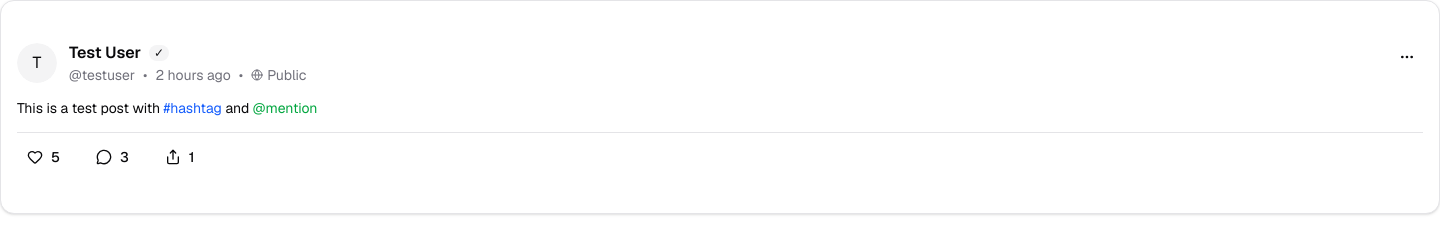
Test: PostCard › shows edit and delete options for own posts
Click the 1st button at (1407, 57), box [1391,41,1423,73]
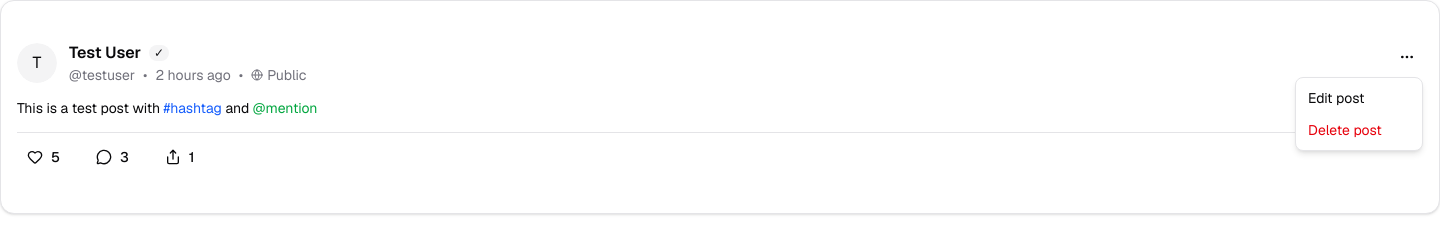
Result: the menu item "Edit post" is shown at [1308,89,1364,107]
Result: the menu item "Delete post" is shown at [1308,121,1382,139]
